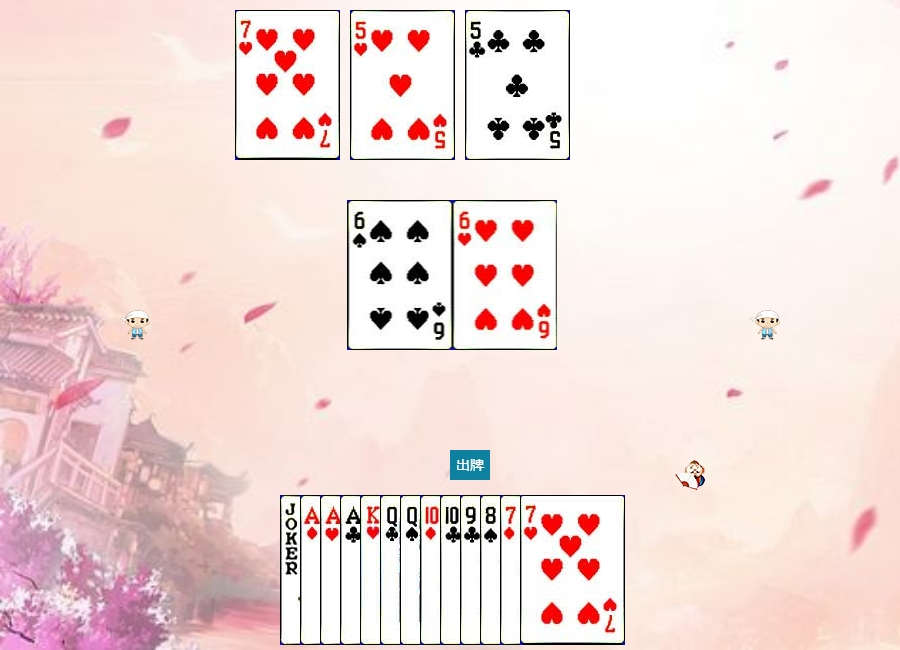10~1: (420, 495, 525, 645)
10~2: (440, 495, 545, 645)
12~2: (380, 495, 485, 645)
12~4: (400, 495, 505, 645)
13~3: (360, 495, 465, 645)
14~1: (300, 495, 405, 645)
14~2: (340, 495, 445, 645)
14~3: (320, 495, 425, 645)
17~3: (280, 495, 385, 645)
5~2: (465, 10, 570, 160)
5~3: (350, 10, 455, 160)
6~3: (453, 200, 558, 350)
6~4: (348, 200, 453, 350)
7~1: (500, 495, 605, 645)
7~3: (235, 10, 340, 160), (520, 495, 625, 645)
8~4: (480, 495, 585, 645)
9~2: (460, 495, 565, 645)
